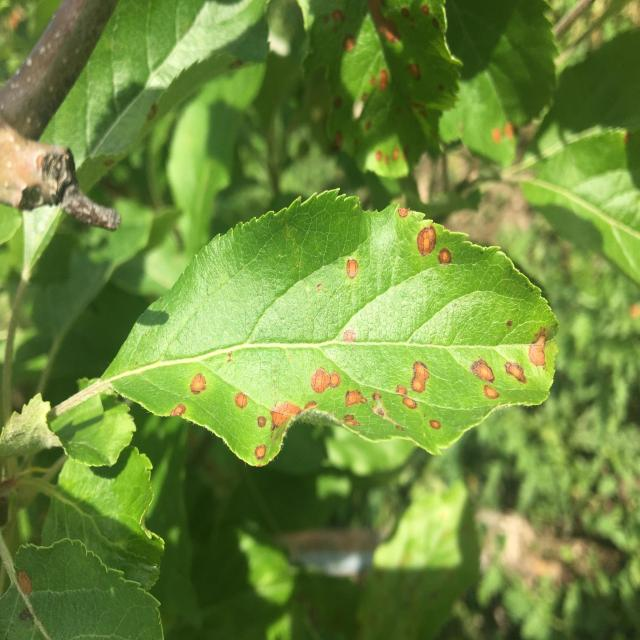Black Rot: (270, 390, 320, 430), (468, 344, 498, 389), (524, 323, 552, 371), (305, 365, 347, 396), (502, 355, 535, 391), (178, 358, 209, 396), (162, 403, 198, 435), (413, 220, 437, 266), (344, 248, 364, 294), (250, 436, 270, 481), (411, 352, 430, 398), (336, 387, 369, 411), (481, 384, 505, 416), (252, 401, 270, 439), (338, 318, 357, 353), (391, 374, 409, 404), (435, 246, 459, 268), (338, 412, 364, 432), (232, 390, 254, 412), (394, 205, 417, 224), (428, 416, 446, 438), (403, 392, 416, 418)
